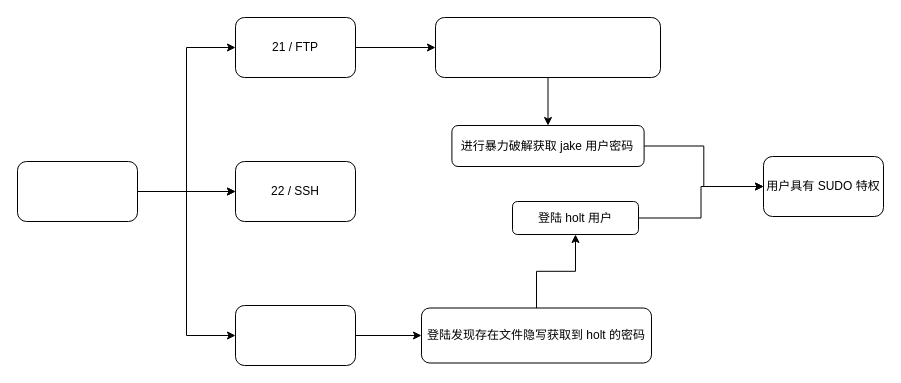
The diagram is 901 pixels wide and 383 high, and some of its shapes have lost their labels. Here are the shapes that lost their labels. From the top down, the centre of each, then its label:
At point (547, 47): "存在匿名共享告知 jake 用户是弱密码".
At point (77, 191): "端口扫描".
At point (295, 335): "80 / HTTP".
